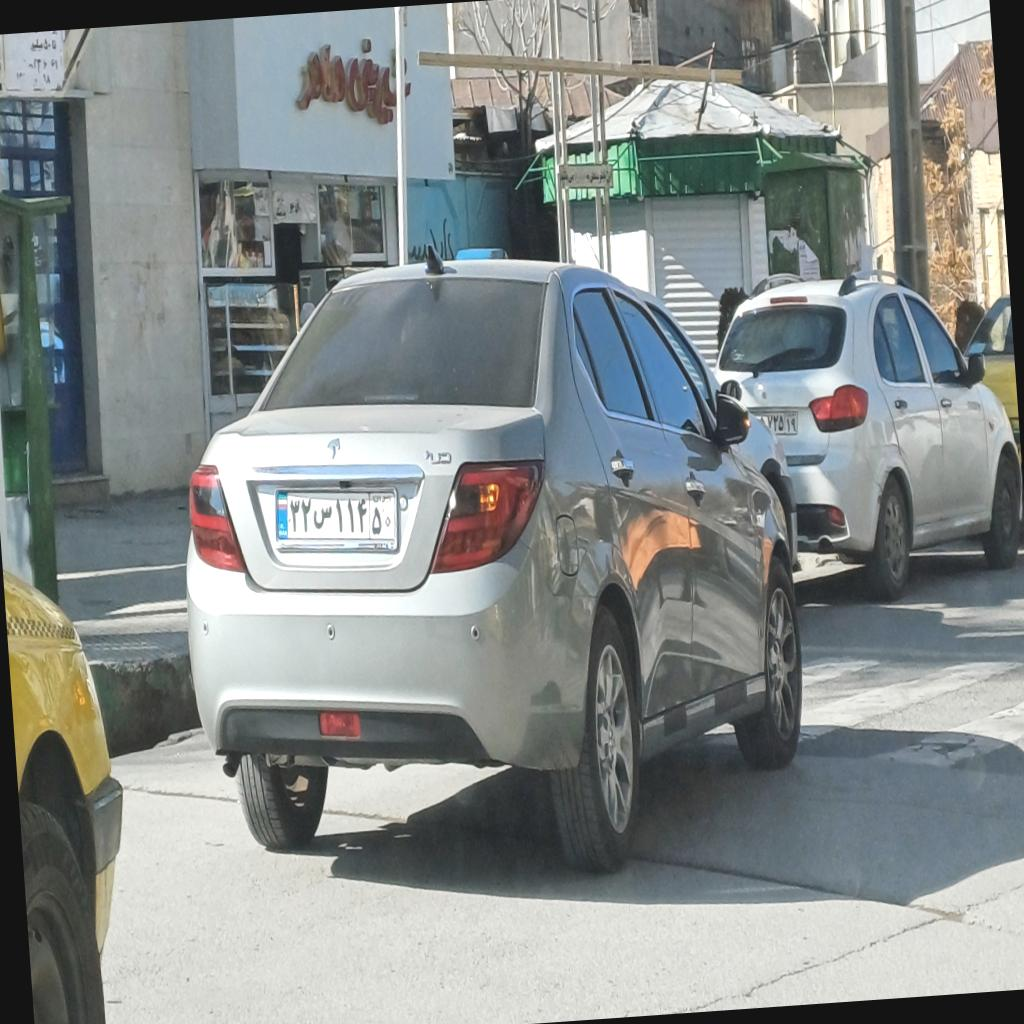Plates: (273, 481, 397, 546)
